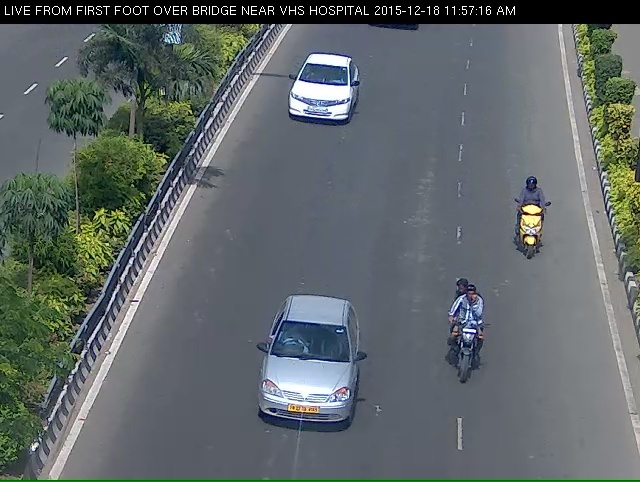Car: (248, 322, 354, 455), (282, 62, 356, 134)
Person: (448, 299, 485, 403), (517, 184, 552, 280)
